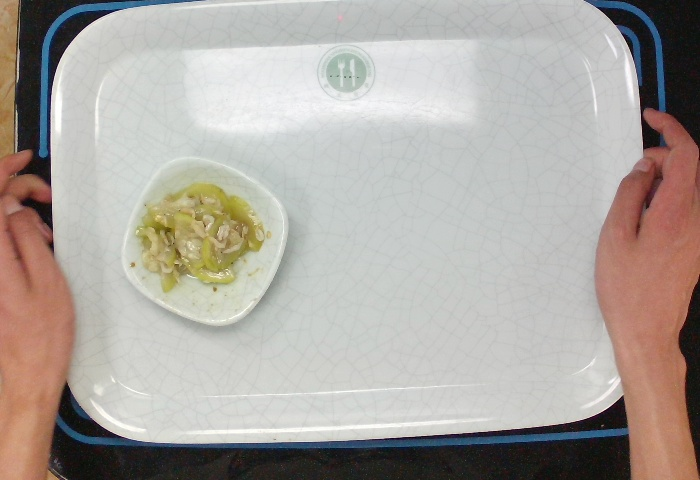JYsf-Si_Fang_Die: (119, 153, 289, 329)
